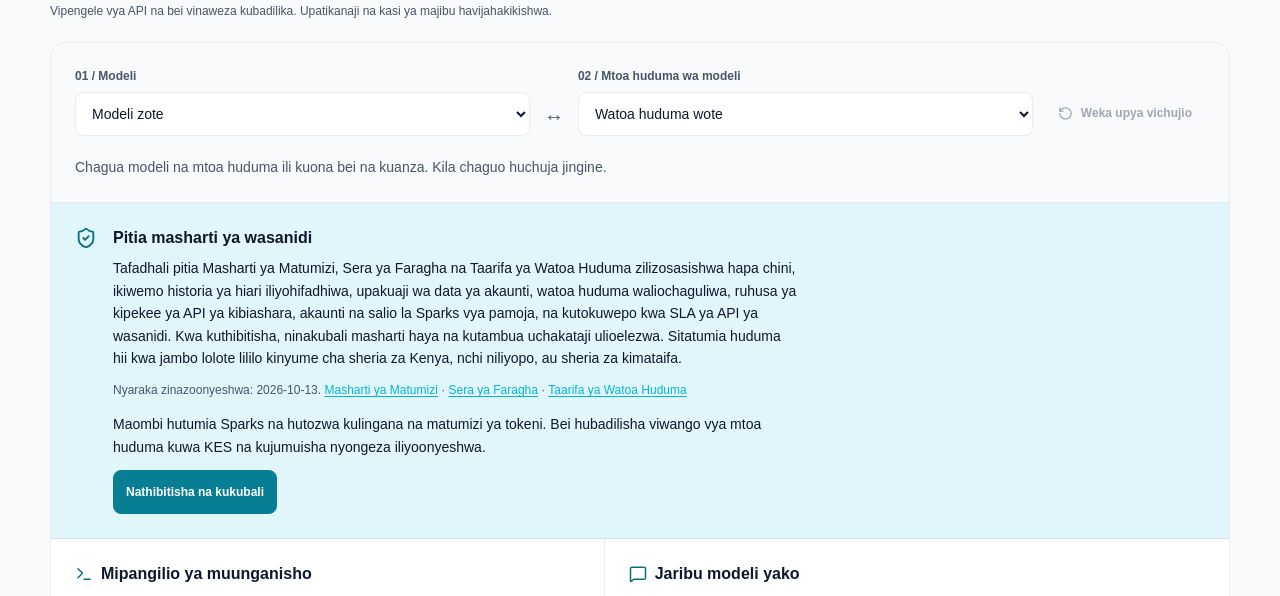
Test: authentication and consent › presents updated sw documents and billing before explicit acceptance
This screenshot has width=1280, height=596.
expect the text "Tafadhali pitia Masharti ya Matumizi, Sera ya Faragha na Taarifa ya Watoa Huduma zilizosasishwa hapa chini, ikiwemo hist" is shown: met, box [113, 260, 796, 366]
expect the text "Maombi hutumia Sparks na hutozwa kulingana na matumizi ya tokeni. Bei hubadilisha viwango vya mtoa huduma kuwa KES na ku" is shown: met, box [113, 416, 761, 455]
Click the button "Nathibitisha na kukubali": (195,492) [113, 470, 277, 514]
(page scrolled)
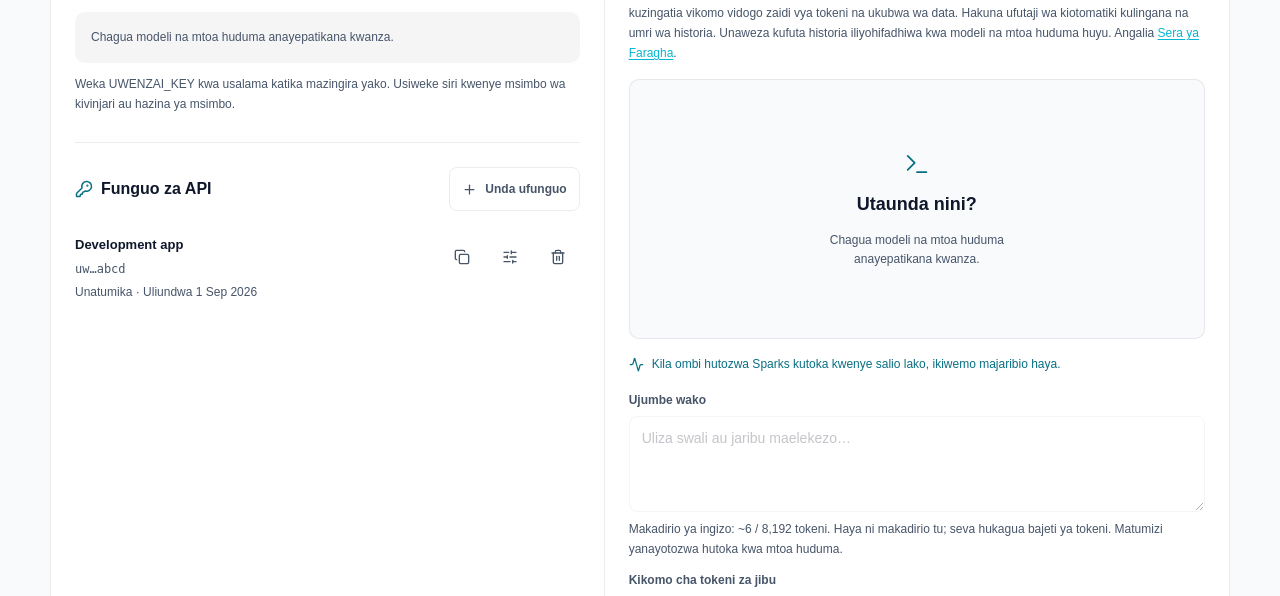
expect the text "Development app" is shown: met, box [75, 237, 183, 252]
